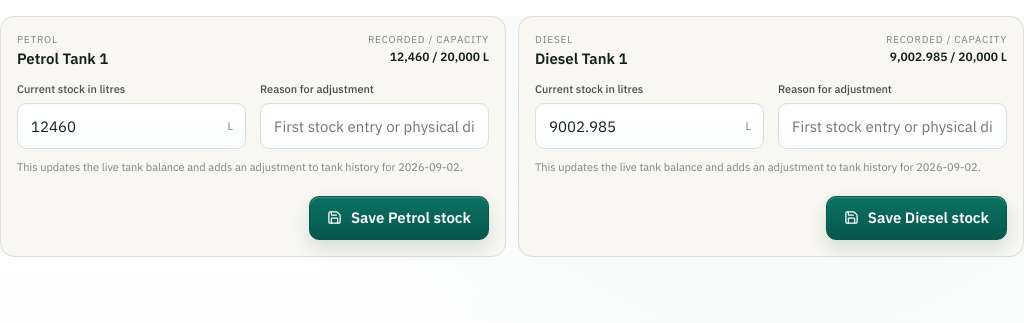
Test case: TankStockEditor › shows a server validation error without changing the displayed balance
Replace the text in the number field named "Diesel current stock" with "21000" at [650, 126], box [535,103,764,149]
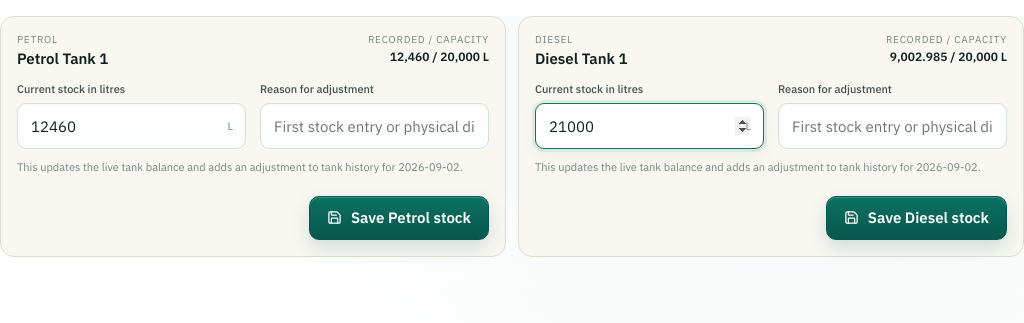
Type "Correcting first stock" into the field named "Diesel adjustment reason" at [892, 126], box [778,103,1007,149]
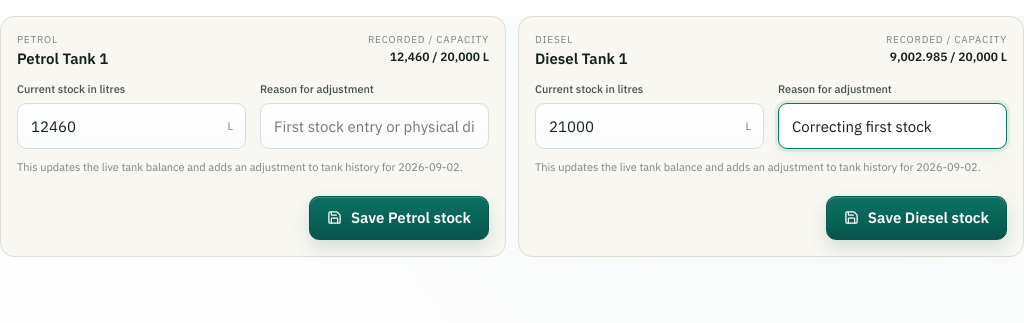
Click the button "Save Diesel stock" at [916, 218], box [826,196,1007,240]
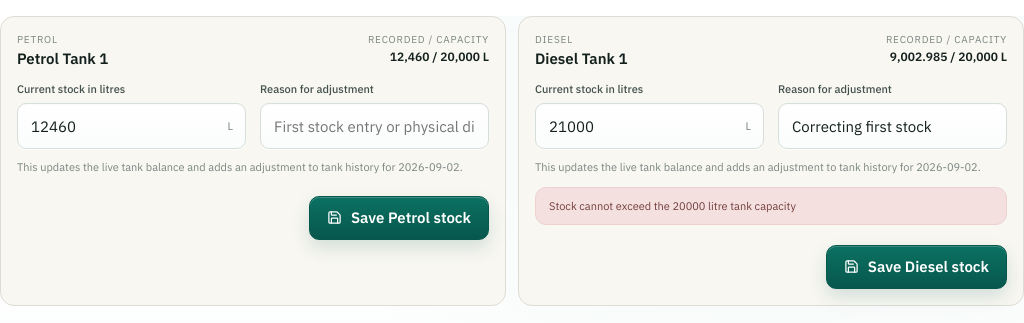
Result: the message reads "Stock cannot exceed the 20000 litre tank capacity" at [549,198,796,212]
